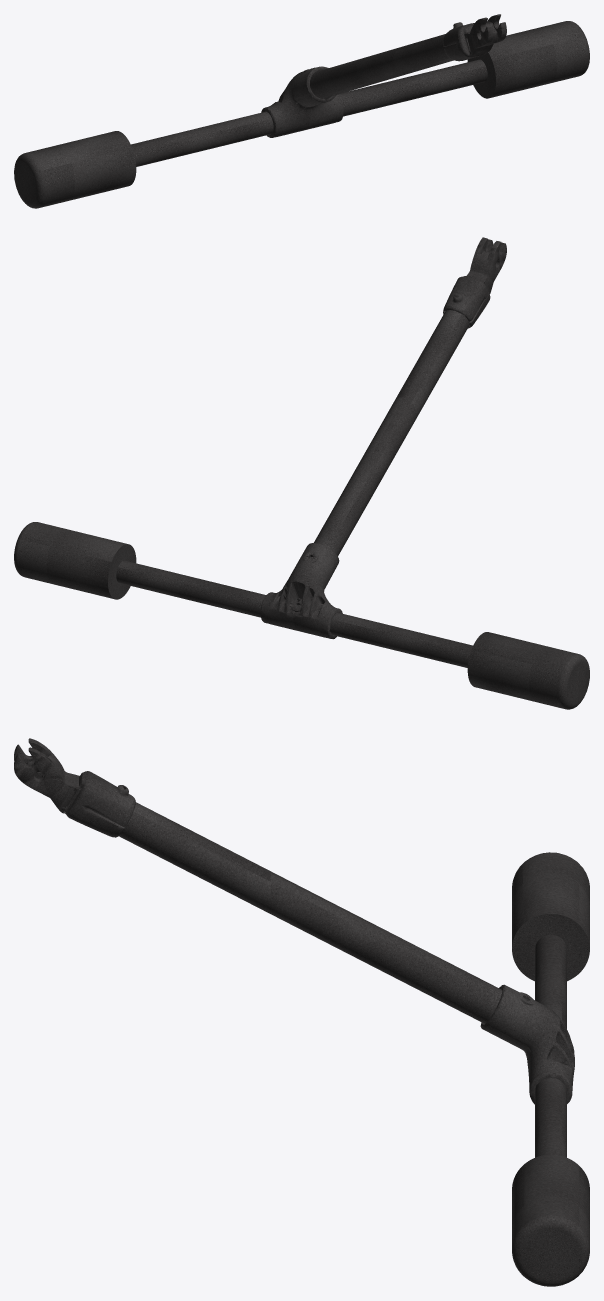
The model's file is leg2_remeshed_v3.obj.
The picture shows the model from 3 angles, top to bottom: view 1: azimuth 30°, elevation 25°; view 2: azimuth 150°, elevation 25°; view 3: azimuth 270°, elevation 25°; orthographic projection. The views are drawn at different scales.
Parts seen in each view (by area): view 1: gear; view 2: gear; view 3: gear.
Boxes of the visible parts, box(x1,y1,x2,y2) form: gear: box(14, 14, 589, 208); gear: box(14, 237, 589, 709); gear: box(14, 738, 589, 1286).
Size of the model in its own units: 0.275 by 0.125 by 0.1809.
Materials: 1 (1 with a texture image).
